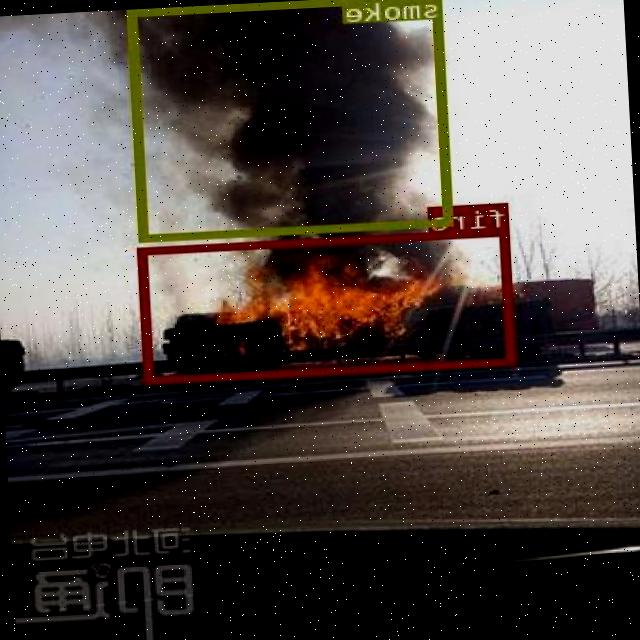fire: (140, 228, 520, 383)
smoke: (130, 0, 455, 239)
